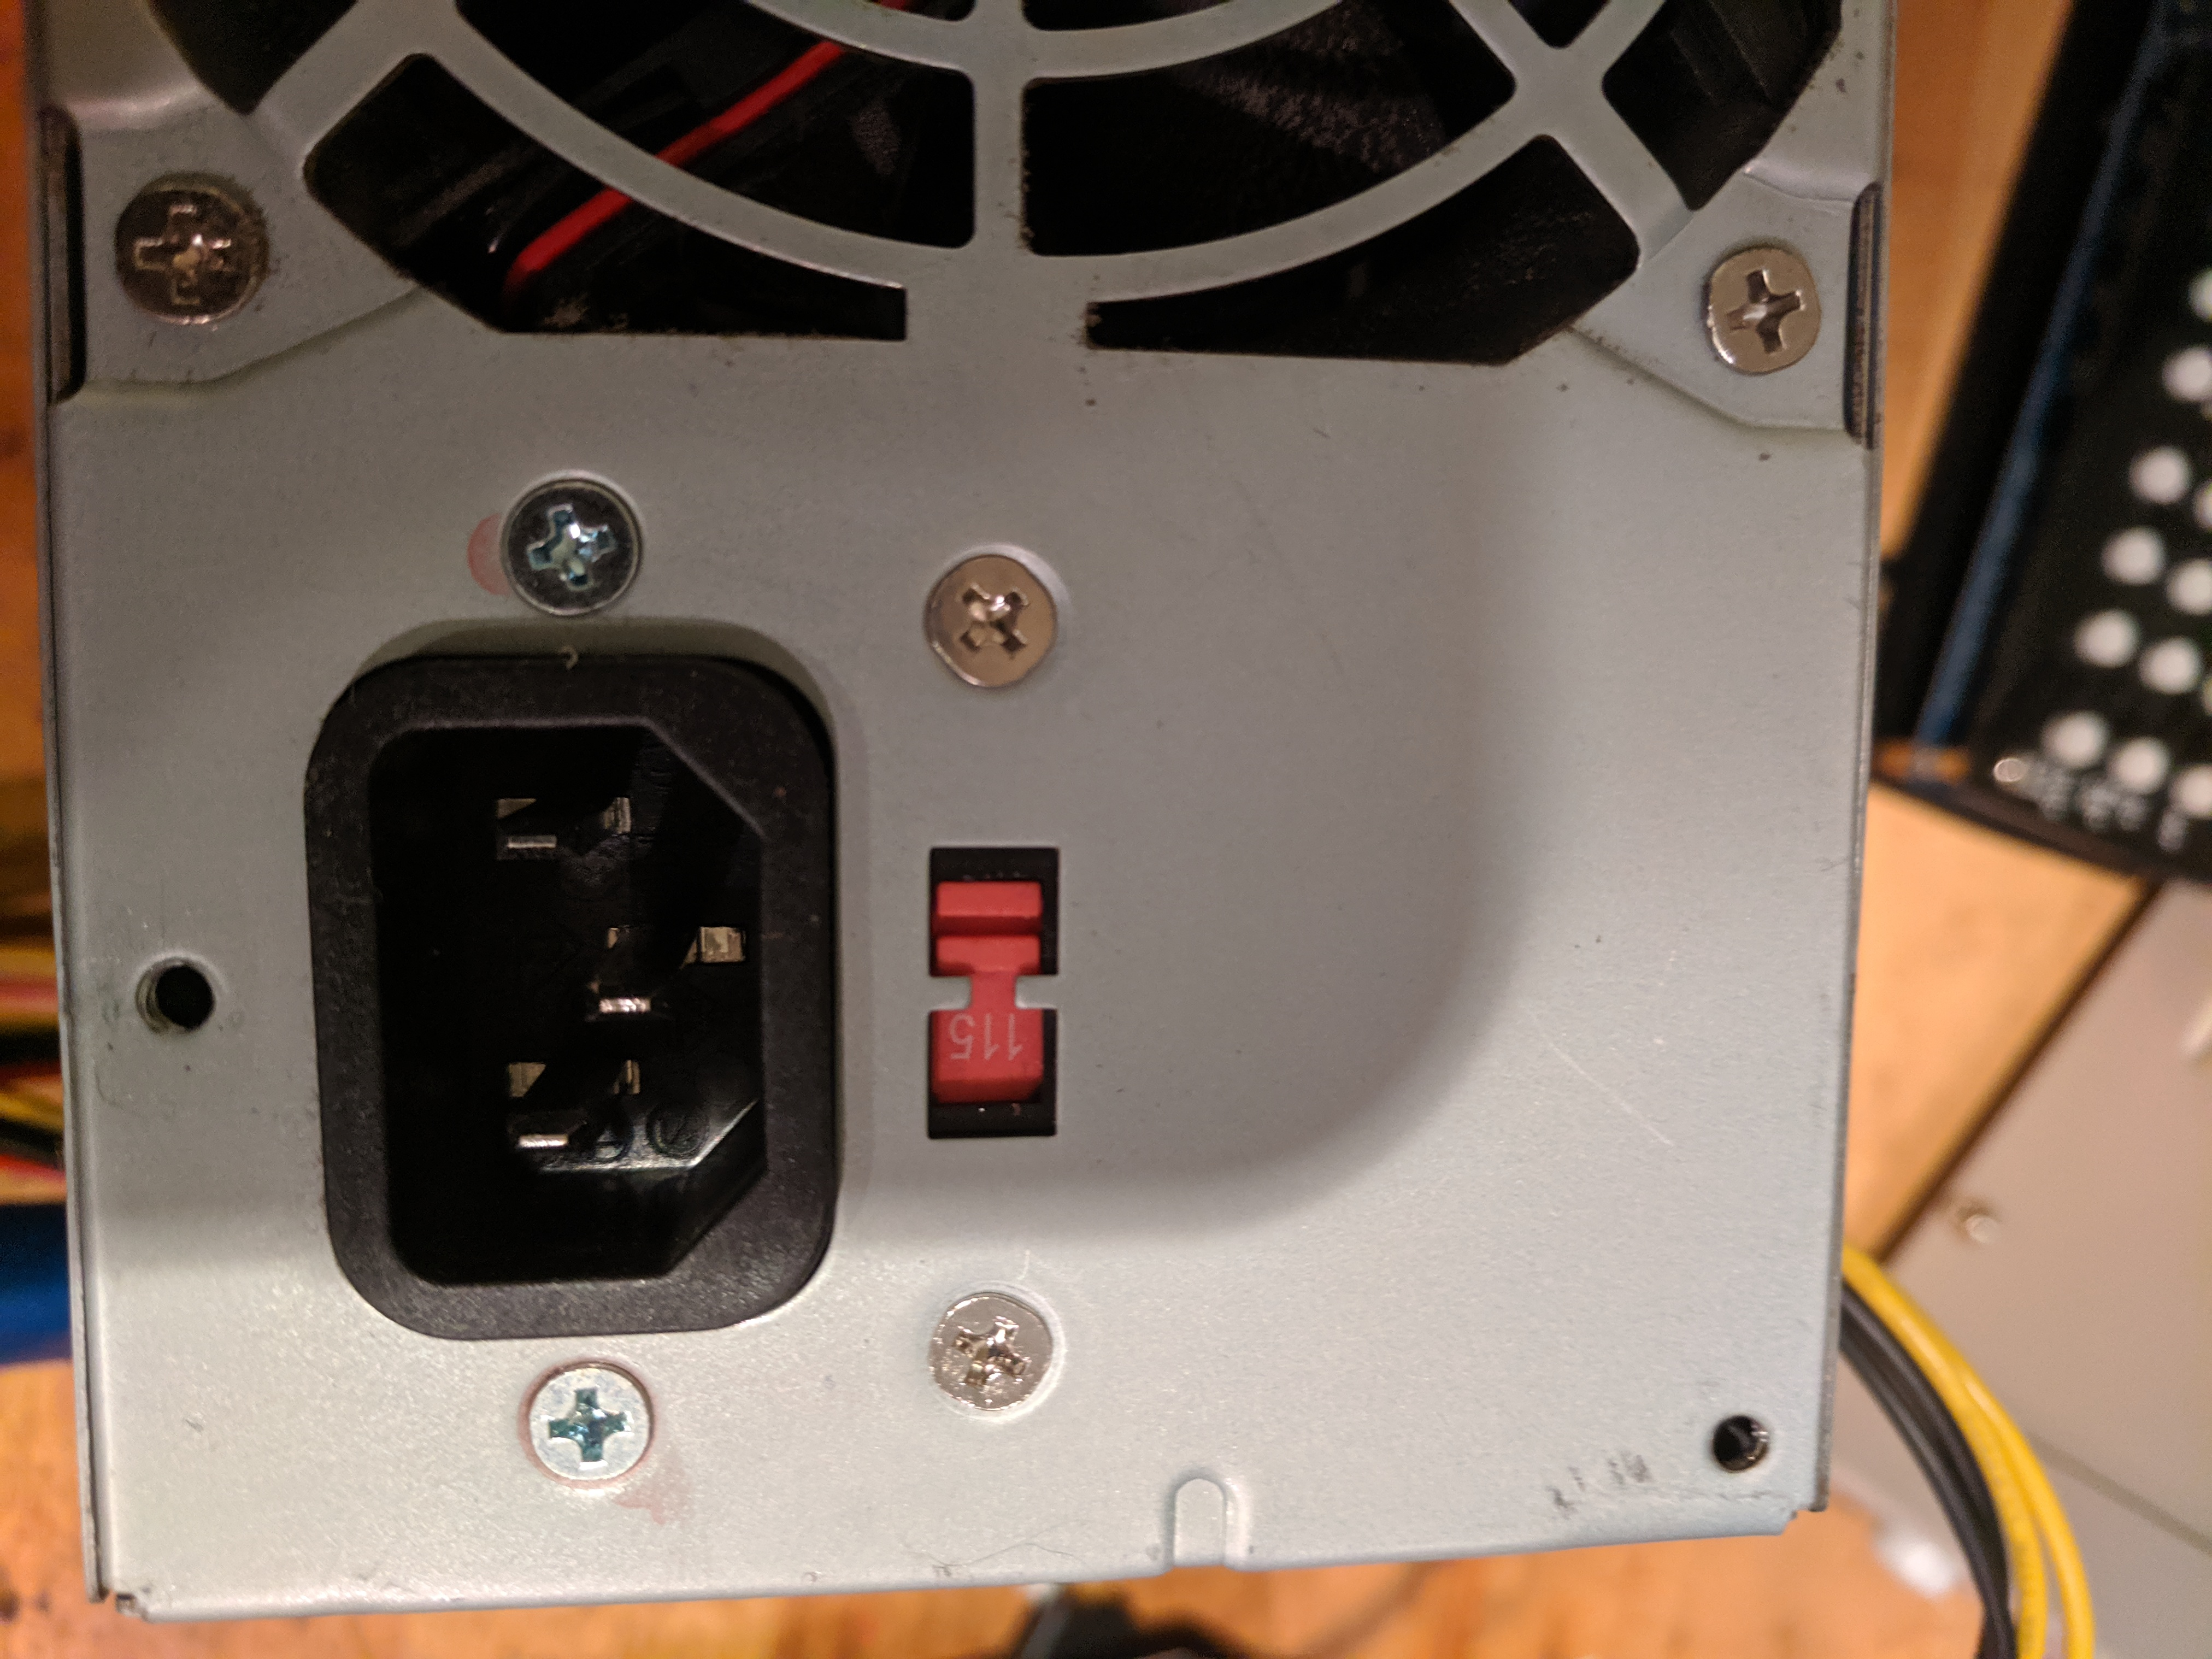cross_recessed_screw: (103, 166, 268, 326), (488, 460, 639, 612), (923, 544, 1054, 690), (1698, 235, 1822, 369), (521, 1364, 655, 1483), (925, 1291, 1052, 1406)
